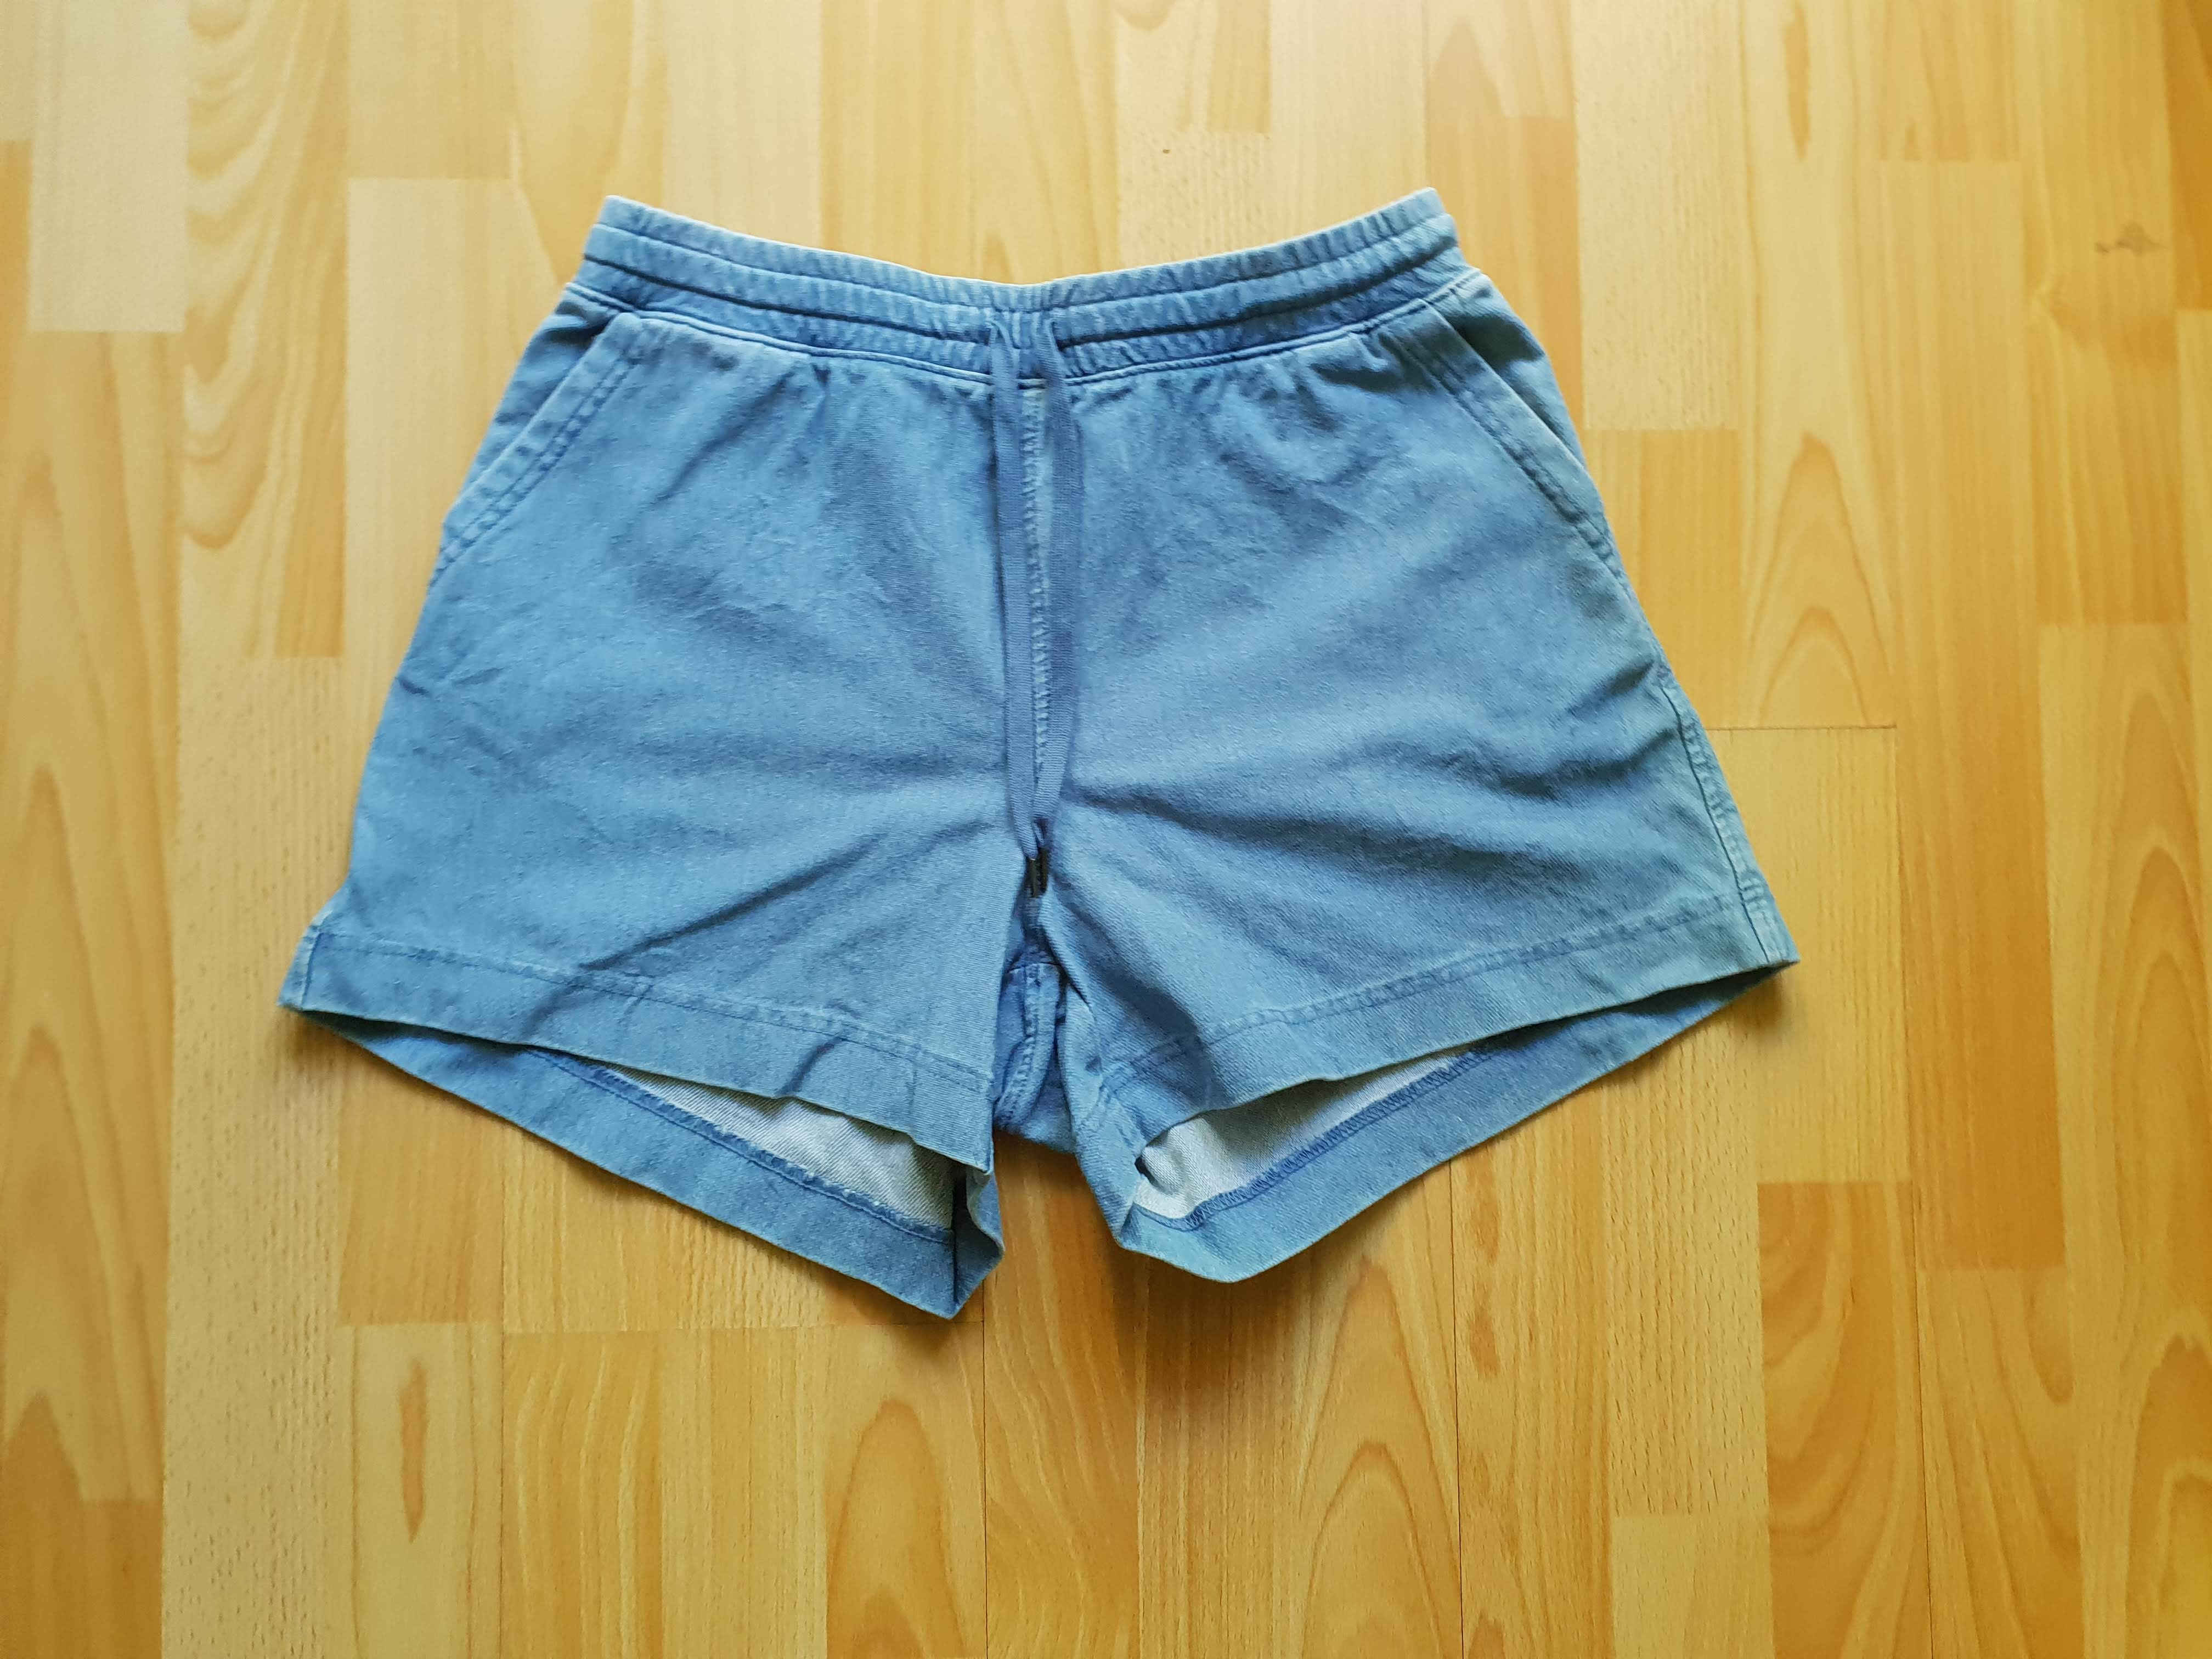clothes: (261, 173, 1803, 1314)
